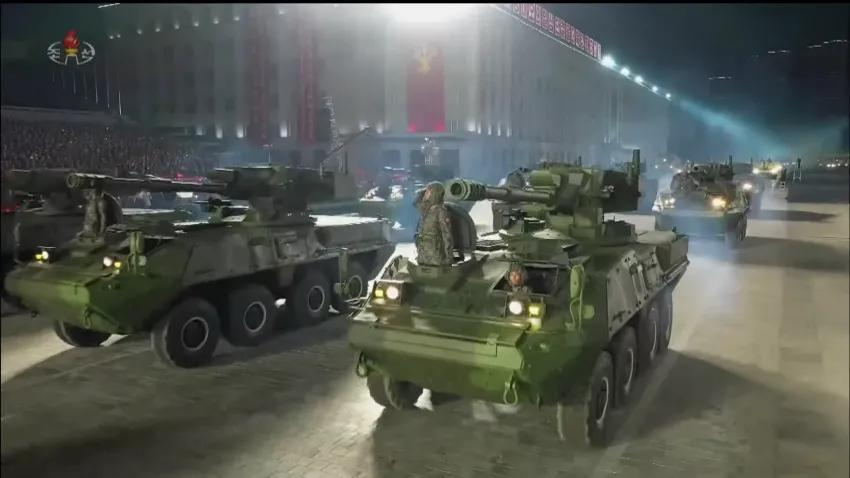MIL_IFV: (349, 145, 692, 446), (2, 158, 396, 371), (654, 159, 753, 249)
